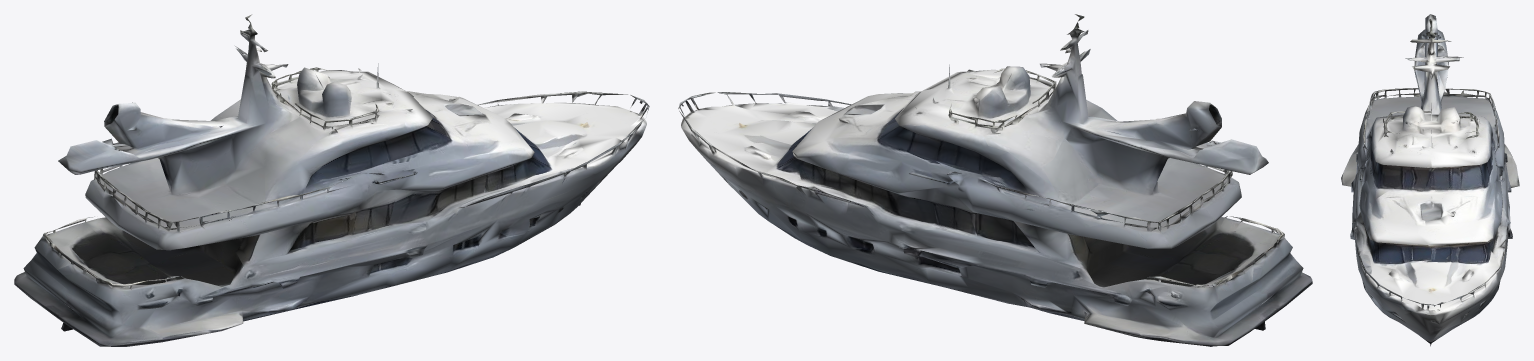
The model's file is mal_yacht.glb.
3 renders of one model, left to right at view 1: azimuth 30°, elevation 25°; view 2: azimuth 150°, elevation 25°; view 3: azimuth 270°, elevation 25°, orthographic. The views are drawn at different scales.
Parts seen in each view (by area): view 1: tripo_node_b2ff991b-5af8-4496-9cbc-cc8246090670; view 2: tripo_node_b2ff991b-5af8-4496-9cbc-cc8246090670; view 3: tripo_node_b2ff991b-5af8-4496-9cbc-cc8246090670.
Part boxes in pixels (x1=…): tripo_node_b2ff991b-5af8-4496-9cbc-cc8246090670: x1=14, y1=14, x2=649, y2=346; tripo_node_b2ff991b-5af8-4496-9cbc-cc8246090670: x1=678, y1=14, x2=1312, y2=346; tripo_node_b2ff991b-5af8-4496-9cbc-cc8246090670: x1=1341, y1=14, x2=1519, y2=346.
Size of the model in its own units: 0.9978 by 0.4361 by 0.3438.
Materials: 1 (1 with a texture image).
